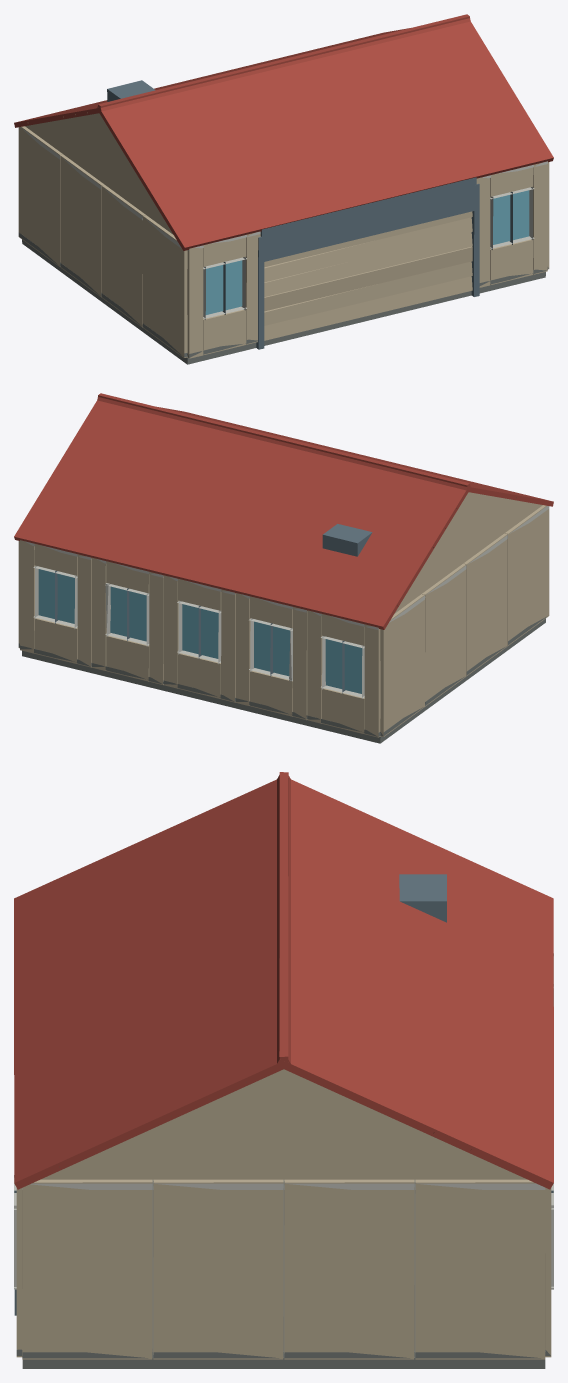
Rendered from architecture-workshop.lod2.glb.
3 renders of one model, top to bottom at view 1: azimuth 30°, elevation 25°; view 2: azimuth 150°, elevation 25°; view 3: azimuth 270°, elevation 25°, orthographic. The views are drawn at different scales.
Visible parts, largest first — view 1: architecture-workshop__body, architecture-workshop__loading_door; view 2: architecture-workshop__body; view 3: architecture-workshop__body.
Part boxes in pixels (bbox=[...]): architecture-workshop__body: bbox=[14, 14, 553, 364]; architecture-workshop__loading_door: bbox=[264, 211, 472, 340]; architecture-workshop__body: bbox=[14, 393, 553, 743]; architecture-workshop__body: bbox=[14, 772, 553, 1368].
Size of the model in its own units: 10.33 by 5.33 by 8.25.
